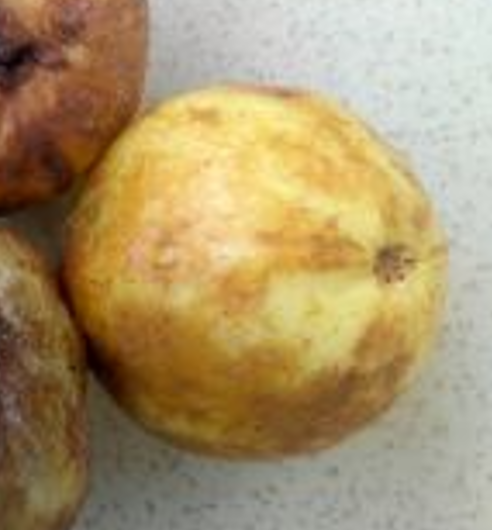guava_C: (60, 80, 448, 461)
